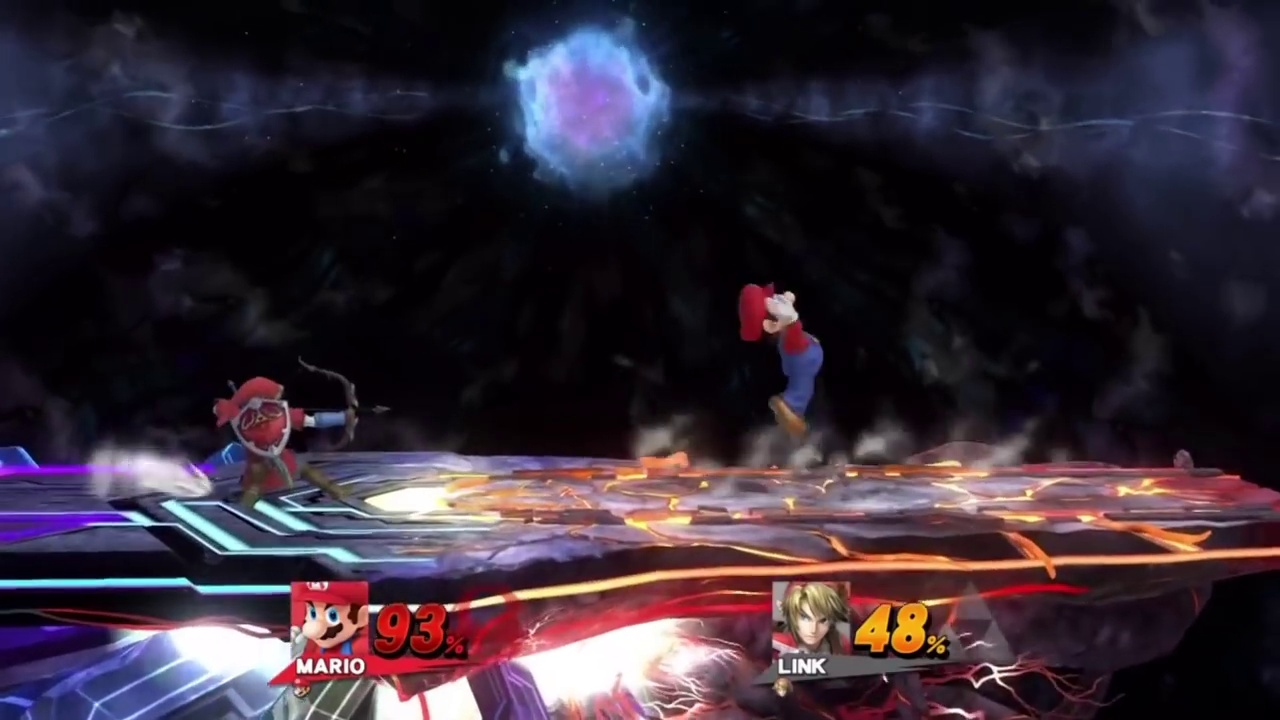Mario: (728, 278, 826, 438)
